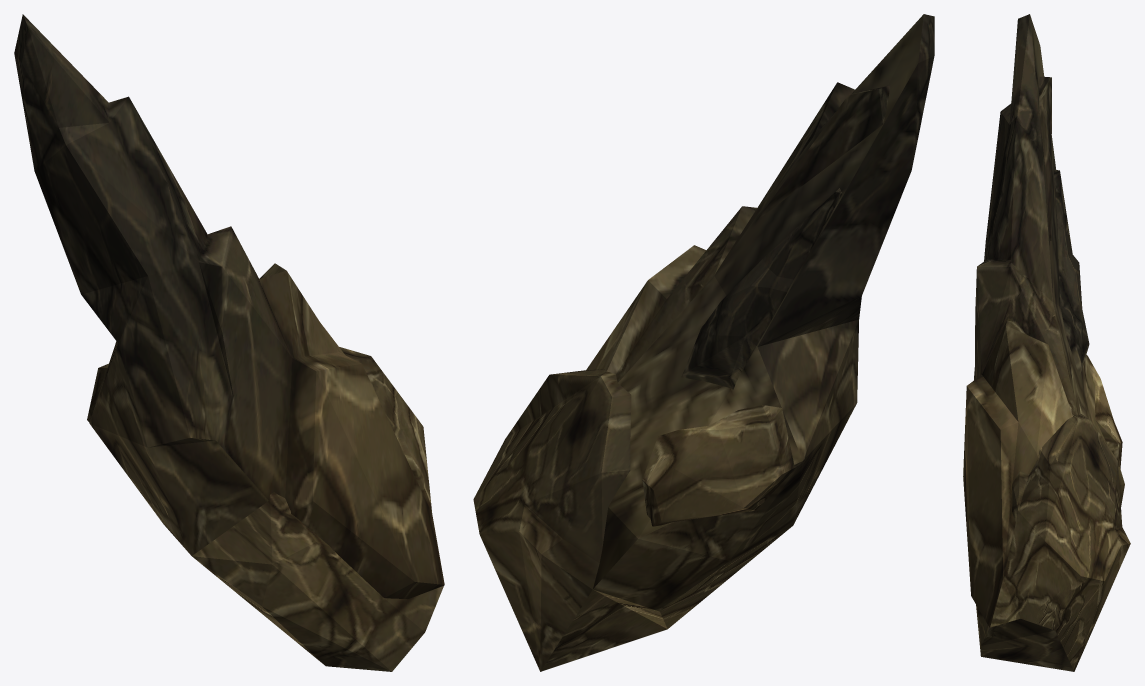
File: D_yanshi008.fbx
The picture shows the model from 3 angles, left to right: view 1: azimuth 30°, elevation 25°; view 2: azimuth 150°, elevation 25°; view 3: azimuth 270°, elevation 25°; orthographic projection. The views are drawn at different scales.
Visible parts, largest first — view 1: D_yanshi008; view 2: D_yanshi008; view 3: D_yanshi008.
Part boxes in pixels (x1,y1,x2,y2): D_yanshi008: (14,14,444,671); D_yanshi008: (473,14,934,671); D_yanshi008: (963,14,1130,671).
Size of the model in its own units: 619 by 1013 by 290.
